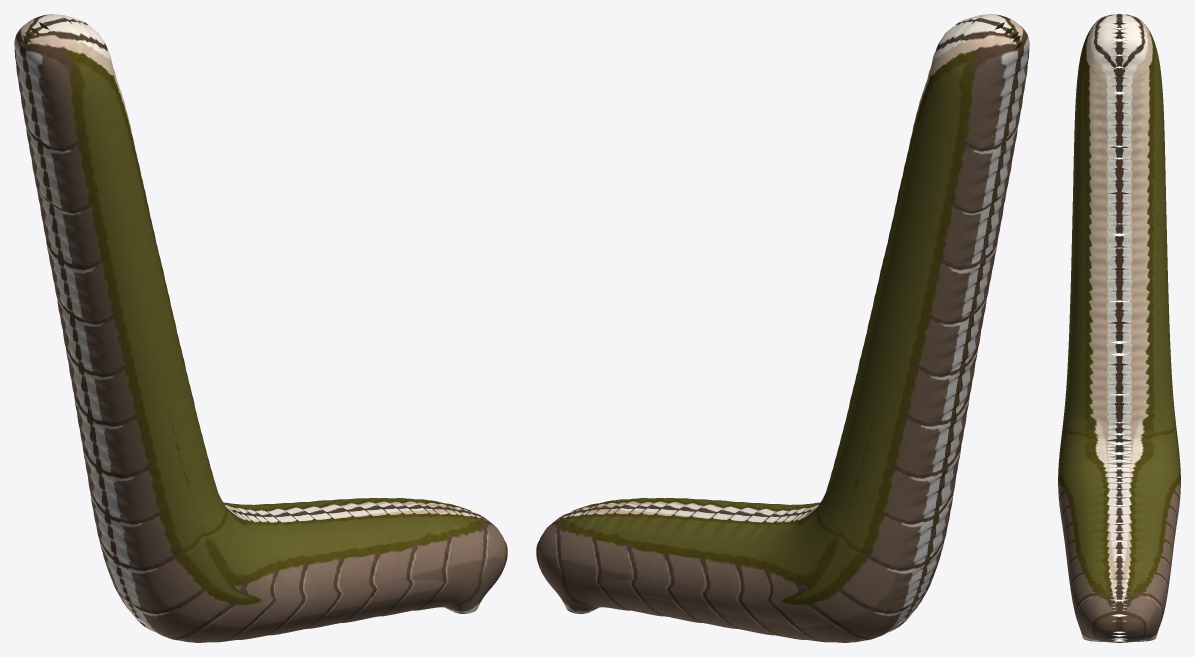
Rendered from perimeter_spine.glb.
3 renders of one model, left to right at view 1: azimuth 30°, elevation 25°; view 2: azimuth 150°, elevation 25°; view 3: azimuth 270°, elevation 25°, orthographic. The views are drawn at different scales.
Visible parts, largest first — view 1: perimeter_spine; view 2: perimeter_spine; view 3: perimeter_spine.
Part boxes in pixels (left/top/right/bottom): perimeter_spine: left=14, top=14, right=507, bottom=642; perimeter_spine: left=536, top=14, right=1029, bottom=642; perimeter_spine: left=1058, top=14, right=1180, bottom=642.
Size of the model in its own units: 0.9853 by 1.32 by 0.3052.
Materials: 1 (1 with a texture image).
